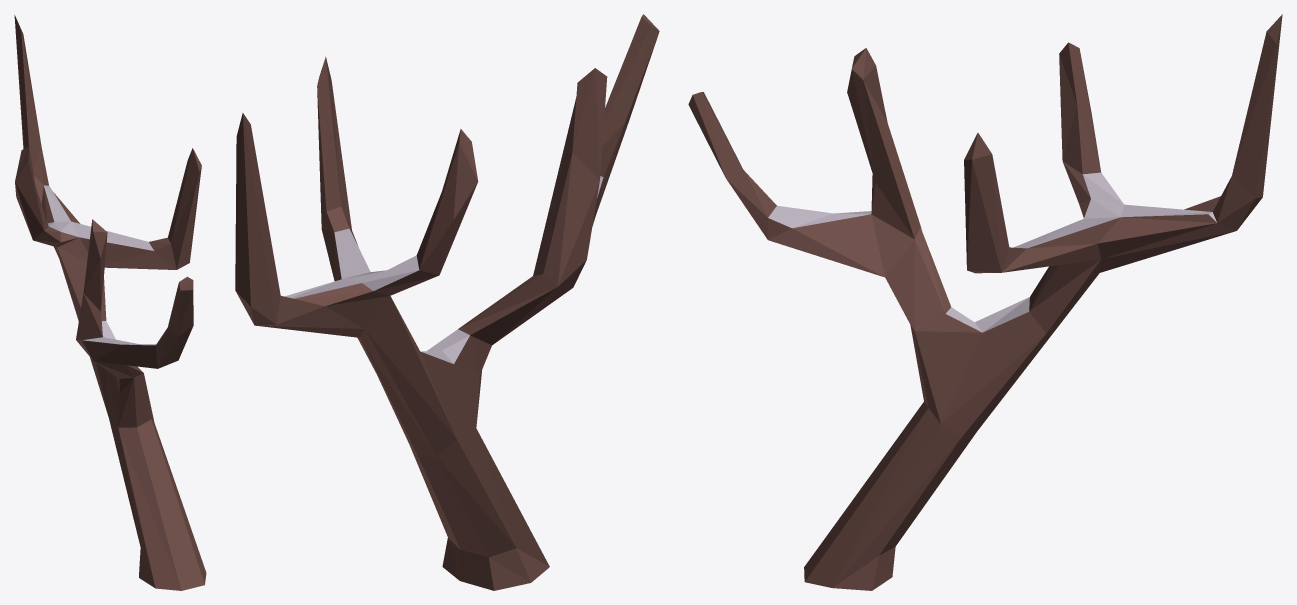
File: Willow_Dead_Snow_4.lod2.glb
3 views of the same model, side by side, from view 1: azimuth 30°, elevation 25°; view 2: azimuth 150°, elevation 25°; view 3: azimuth 270°, elevation 25° (orthographic). The views are drawn at different scales.
Visible parts, largest first — view 1: Willow_Dead_Snow_4; view 2: Willow_Dead_Snow_4; view 3: Willow_Dead_Snow_4.
Part boxes in pixels (bbox=[...]): Willow_Dead_Snow_4: bbox=[14, 15, 206, 590]; Willow_Dead_Snow_4: bbox=[235, 14, 659, 590]; Willow_Dead_Snow_4: bbox=[688, 14, 1282, 590].
Bounding box in the file's own units: 1.02 × 2.72 × 2.59.
